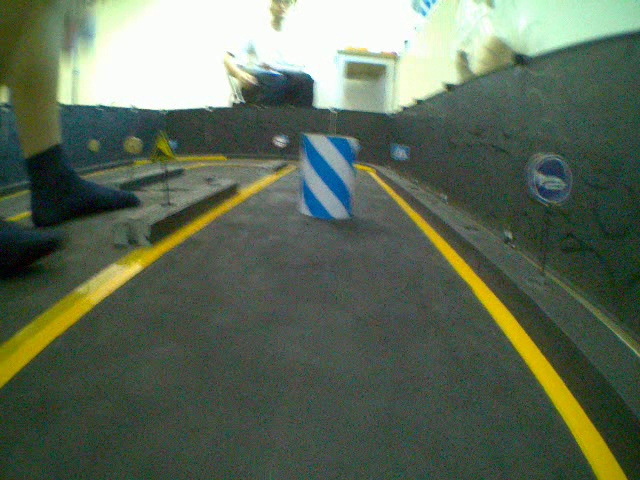bucket: (301, 130, 354, 222)
